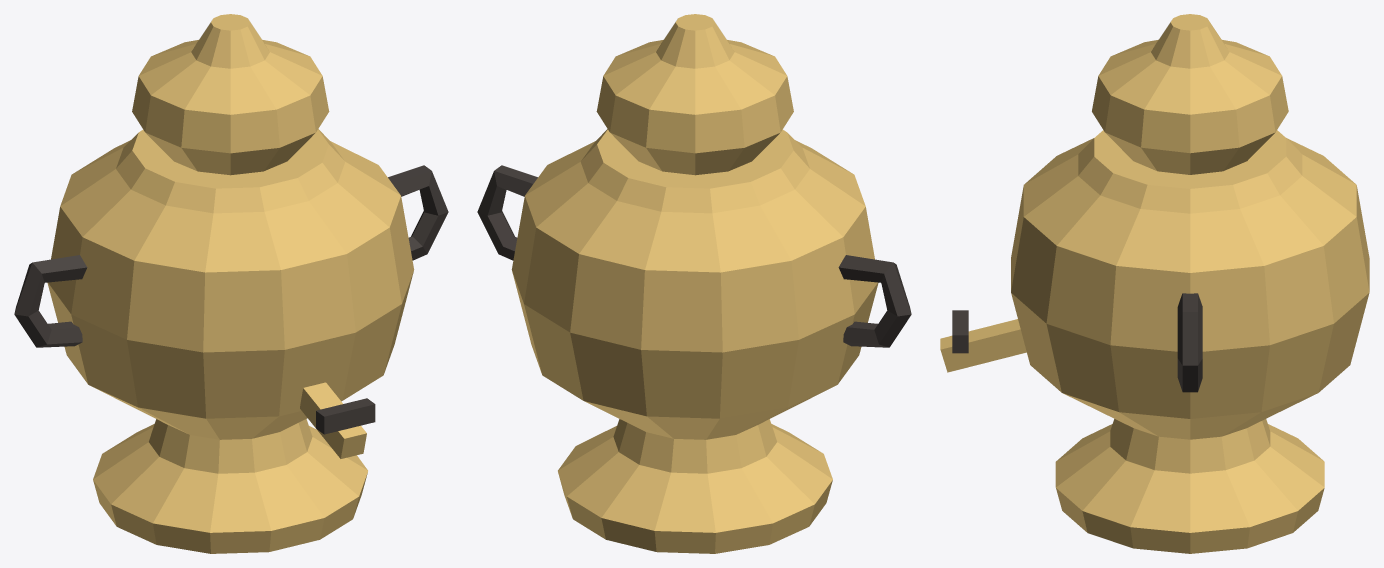
The model's file is samovar.glb.
3 renders of one model, left to right at view 1: azimuth 30°, elevation 25°; view 2: azimuth 150°, elevation 25°; view 3: azimuth 270°, elevation 25°, orthographic.
Parts seen in each view (by area): view 1: samovar; view 2: samovar; view 3: samovar.
Part boxes in pixels (x1,y1,x2,y2): samovar: (14,14,448,553); samovar: (477,14,911,553); samovar: (940,14,1369,553).
Size of the model in its own units: 0.1512 by 0.16 by 0.1307.
